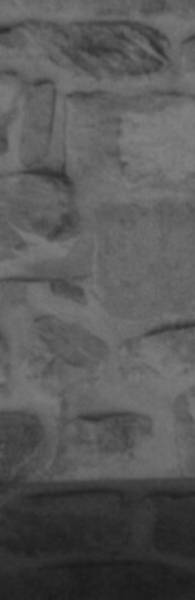water: (0, 480, 195, 600)
